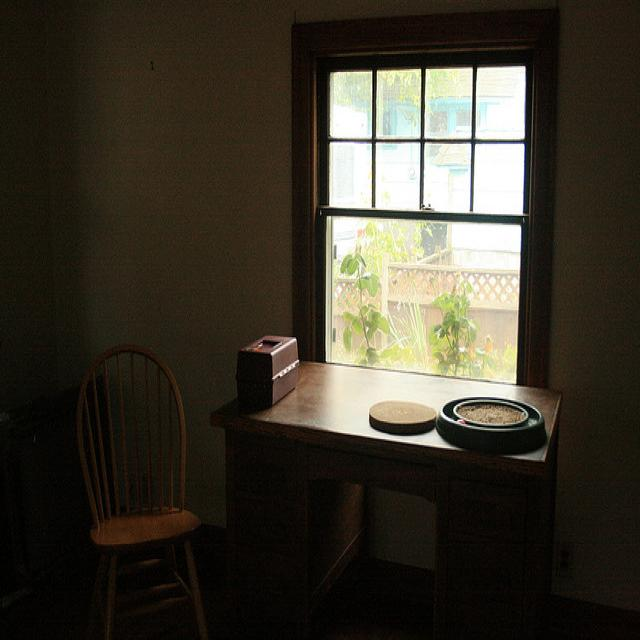Table: (194, 331, 597, 640)
chair: (72, 332, 226, 640)
